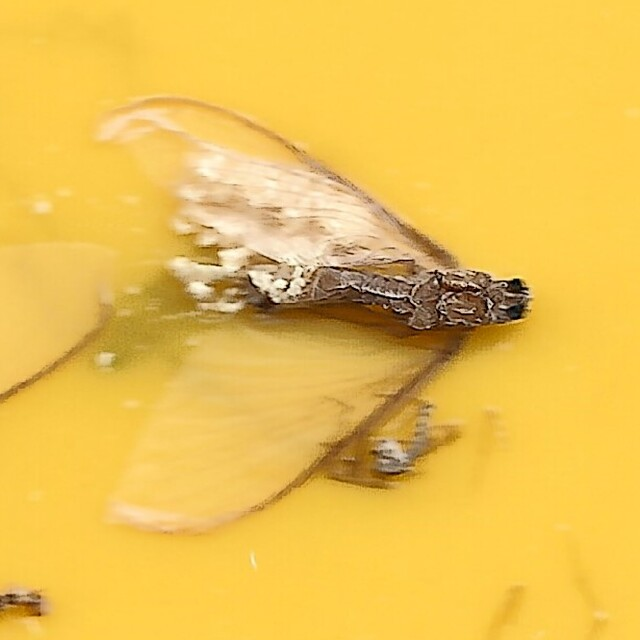Ephemeroptera: (104, 94, 536, 546)
Nematocera: (366, 401, 443, 487)
